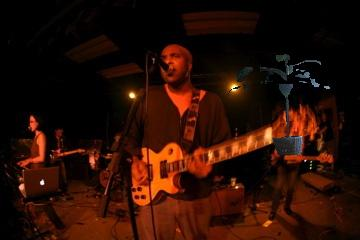tampered: (229, 55, 330, 155)
